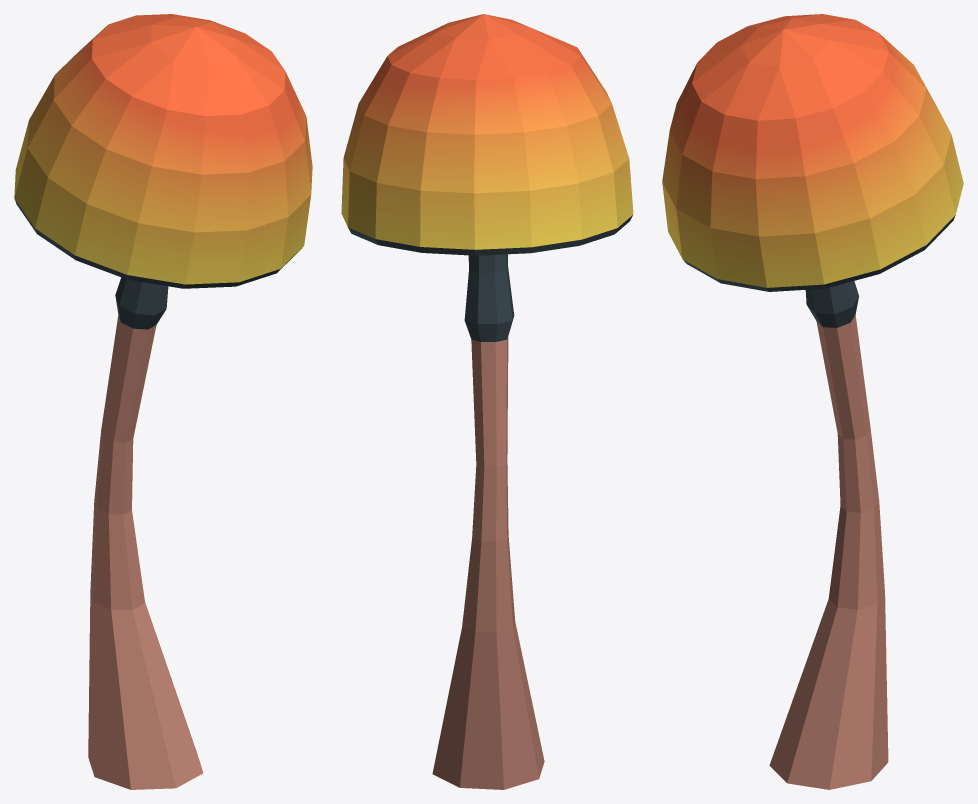
Rendered from mushroom_005.fbx.
3 views of the same model, side by side, from view 1: azimuth 30°, elevation 25°; view 2: azimuth 150°, elevation 25°; view 3: azimuth 270°, elevation 25° (orthographic). The views are drawn at different scales.
Visible parts, largest first — view 1: mushroom.005; view 2: mushroom.005; view 3: mushroom.005.
Boxes of the visible parts, x1,y1,x2,y2 form: mushroom.005: (14, 14, 312, 789); mushroom.005: (341, 14, 633, 789); mushroom.005: (662, 14, 963, 789).
Bounding box in the file's own units: 607 × 1668 × 609.
1 material, 1 textured.
